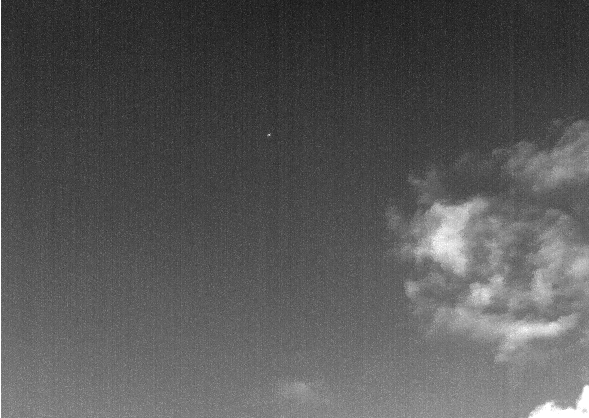dim target: (266, 132, 272, 137)
